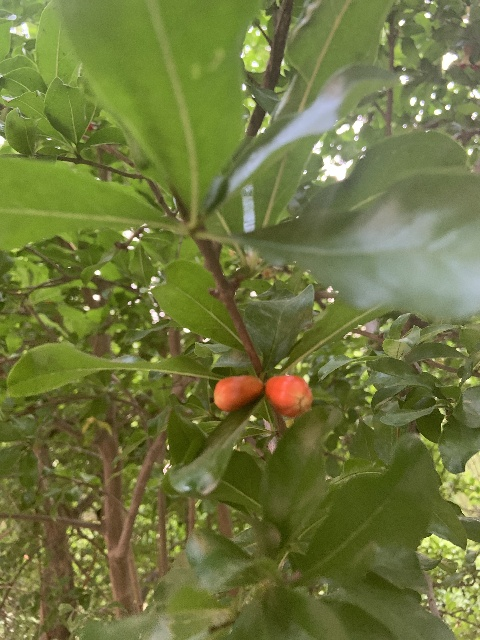bud: (264, 373, 313, 417), (213, 374, 262, 412)
